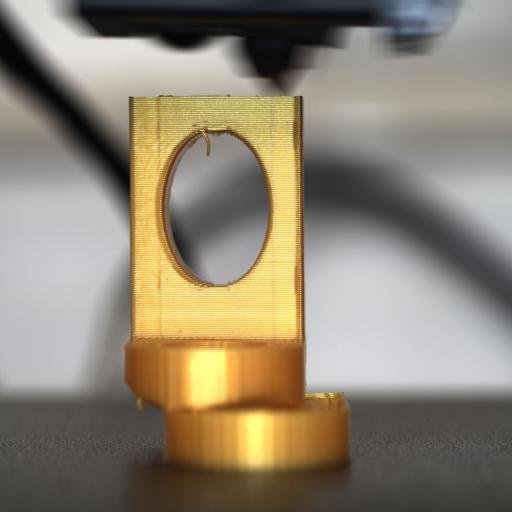layer_shift: (123, 382, 351, 419)
